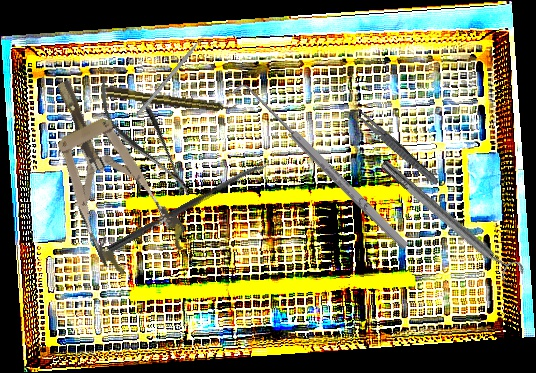Dressing Forceps: (350, 105, 441, 188)
Fixation Ring: (374, 152, 528, 290)
Handpiece: (104, 85, 238, 116)
Hook Surgical: (230, 77, 412, 258)
Micro Scissor: (84, 64, 207, 209)
Pusher: (136, 26, 213, 116)
Speculum: (23, 62, 193, 283)
Surgical Spoon: (107, 160, 267, 254)
